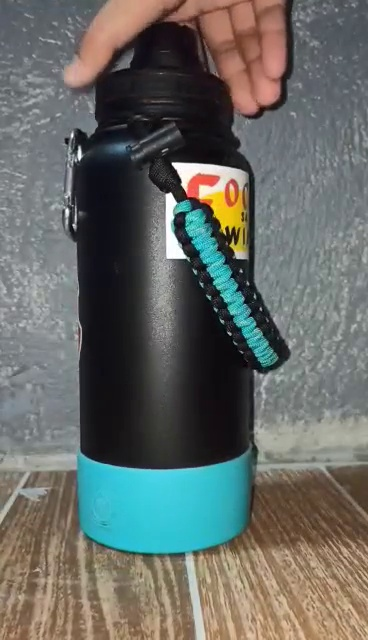hand: (61, 1, 288, 119)
tumbler: (63, 33, 289, 560)
